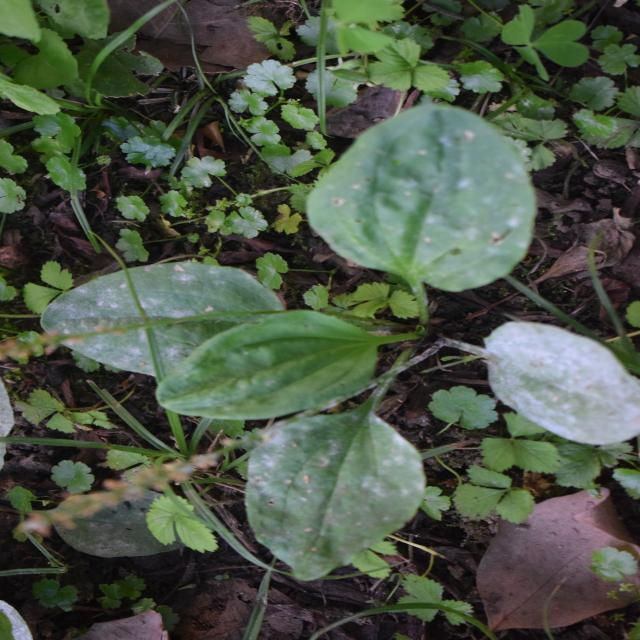plantain: (100, 75, 519, 559)
